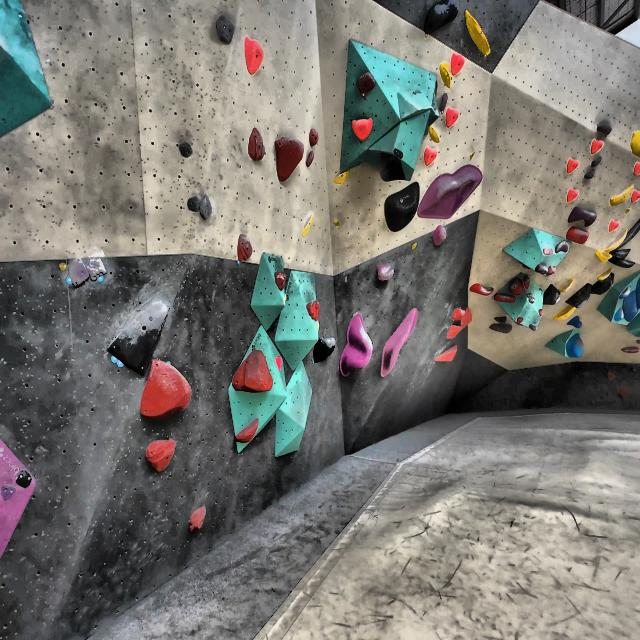Hold: (104, 293, 173, 377), (419, 164, 483, 223), (138, 359, 193, 419), (378, 306, 418, 380), (339, 310, 375, 376), (231, 345, 272, 392), (386, 181, 420, 233), (419, 0, 462, 41), (274, 137, 304, 187), (142, 433, 176, 473), (466, 8, 493, 58), (64, 251, 88, 295), (612, 215, 640, 252), (243, 34, 266, 75), (232, 418, 263, 448), (379, 151, 405, 185), (348, 115, 376, 143), (247, 128, 268, 165), (212, 11, 235, 44), (235, 231, 254, 268), (85, 254, 111, 281), (567, 204, 597, 227), (189, 504, 210, 536), (312, 337, 336, 364), (357, 69, 378, 98), (444, 104, 468, 127), (14, 464, 37, 488), (604, 228, 628, 251), (433, 344, 459, 365), (611, 182, 632, 208), (302, 210, 319, 240), (374, 262, 397, 284), (553, 303, 576, 324), (566, 333, 584, 359), (538, 284, 560, 305), (566, 227, 590, 246), (200, 193, 214, 223), (448, 50, 464, 76), (178, 138, 195, 162), (274, 266, 290, 291), (625, 287, 636, 323), (469, 280, 493, 296), (333, 168, 353, 187), (304, 299, 320, 320), (439, 60, 451, 88), (492, 292, 516, 306), (628, 130, 640, 158), (508, 276, 524, 296), (461, 304, 473, 330), (187, 193, 201, 215), (427, 124, 441, 146), (589, 138, 606, 155), (0, 486, 18, 502), (609, 258, 635, 269), (422, 146, 436, 165), (556, 278, 575, 292), (488, 322, 512, 333), (310, 128, 323, 148), (618, 284, 634, 300), (432, 227, 447, 244), (449, 307, 467, 321), (610, 247, 631, 259), (446, 322, 461, 338), (568, 314, 584, 329), (598, 266, 613, 282), (307, 148, 317, 170), (594, 250, 611, 262), (273, 350, 283, 370), (438, 91, 448, 111), (620, 344, 640, 354), (567, 160, 580, 175), (635, 274, 640, 311), (535, 262, 548, 276), (555, 240, 569, 253), (567, 189, 580, 203), (607, 219, 620, 233), (492, 315, 510, 325), (614, 304, 624, 322), (596, 123, 611, 135), (583, 168, 596, 181), (546, 263, 556, 277), (617, 386, 628, 398), (542, 245, 554, 255), (523, 277, 531, 291), (589, 158, 603, 166), (606, 369, 615, 381), (633, 189, 640, 204), (526, 293, 536, 303), (527, 322, 536, 332), (469, 150, 477, 161), (632, 164, 640, 175), (516, 316, 523, 323), (538, 307, 542, 317), (624, 208, 632, 213)
